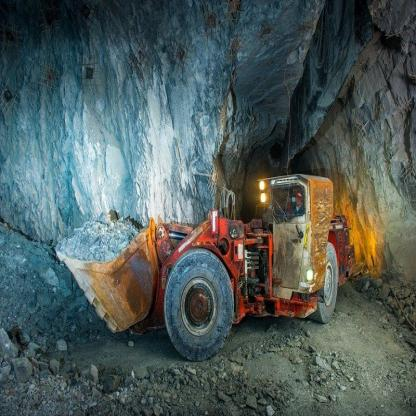bull_dozer/loader/grader: (52, 147, 391, 351)
